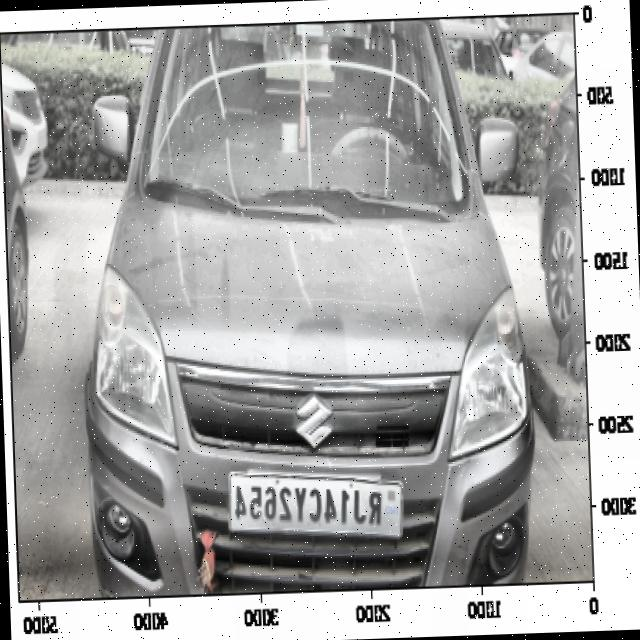license_plate: (228, 470, 398, 540)
